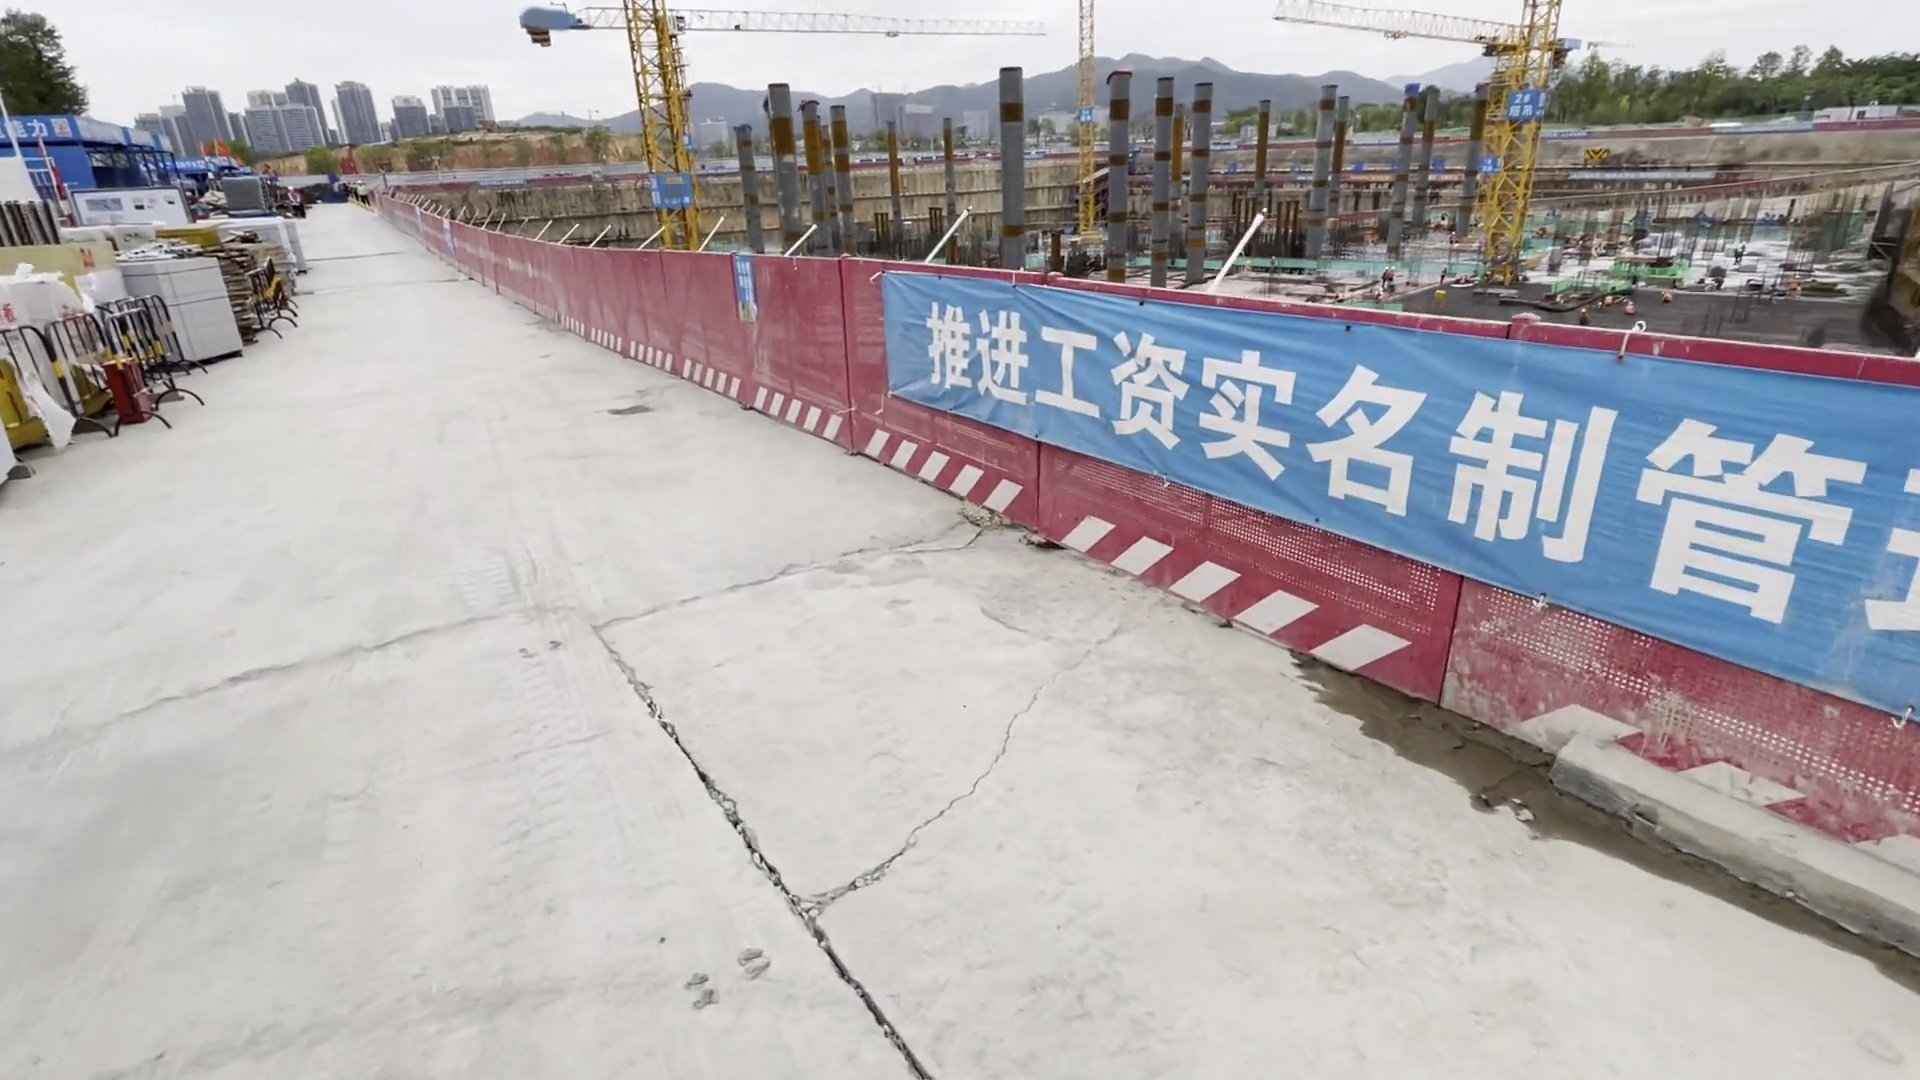brick: (119, 256, 236, 378), (225, 222, 298, 276)
fence: (376, 185, 902, 465)
slogan: (902, 290, 1920, 764)
